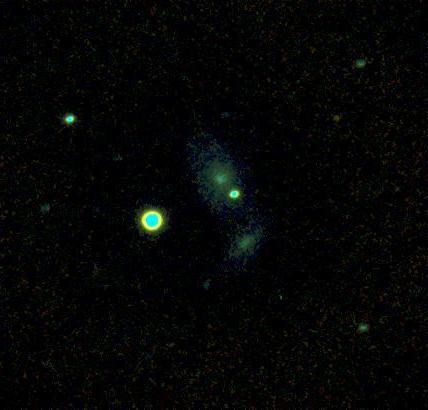star: (323, 102, 353, 132)
